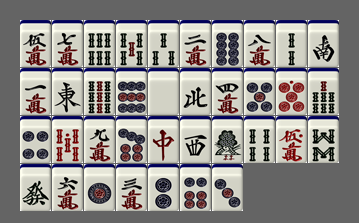0m: (276, 116, 307, 163)
0p: (276, 68, 307, 115)
0s: (52, 116, 83, 163)
1m: (20, 68, 51, 115)
1p: (84, 164, 115, 211)
1s: (212, 116, 243, 163)
1z: (52, 68, 83, 115)
2m: (180, 20, 211, 67)
2p: (148, 164, 179, 211)
2s: (276, 20, 307, 67)
2z: (308, 20, 339, 67)
3m: (116, 164, 147, 211)
3p: (212, 164, 243, 211)
3s: (148, 20, 179, 67)
3z: (180, 116, 211, 163)
4m: (212, 68, 243, 115)
4p: (20, 116, 51, 163)
4s: (244, 116, 275, 163)
4z: (180, 68, 211, 115)
5m: (20, 20, 51, 67)
5p: (244, 68, 275, 115)
5s: (116, 20, 147, 67)
5z: (148, 68, 179, 115)
6m: (52, 164, 83, 211)
6p: (180, 164, 211, 211)
6s: (84, 20, 115, 67)
6z: (20, 164, 51, 211)
7m: (52, 20, 83, 67)
7p: (116, 116, 147, 163)
7s: (308, 68, 339, 115)
7z: (148, 116, 179, 163)
8m: (244, 20, 275, 67)
8p: (212, 20, 243, 67)
8s: (308, 116, 339, 163)
9m: (84, 116, 115, 163)
9p: (116, 68, 147, 115)
9s: (84, 68, 115, 115)
